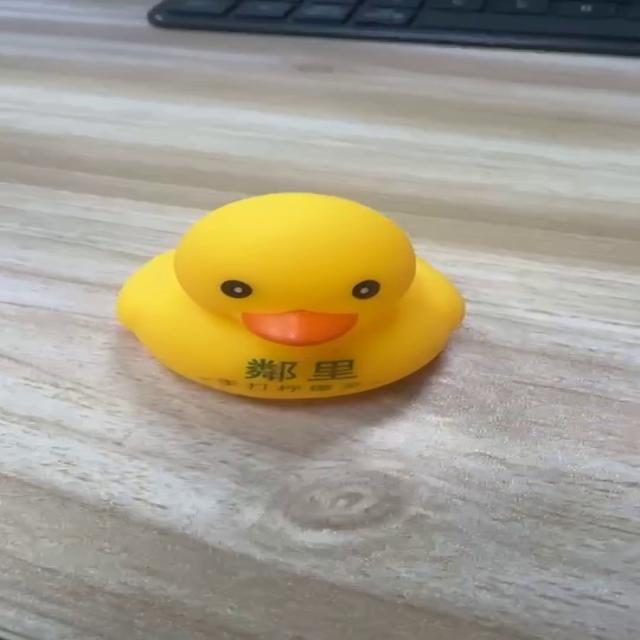yellow_duck: (114, 190, 467, 400)
